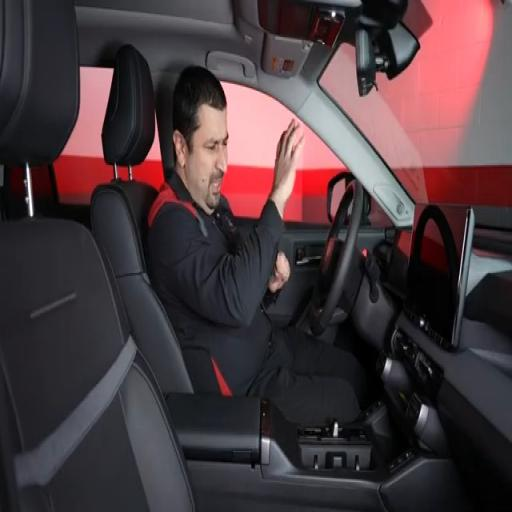side_mirror: (327, 171, 354, 223)
window: (54, 67, 113, 204)
windshield: (320, 0, 511, 206)
